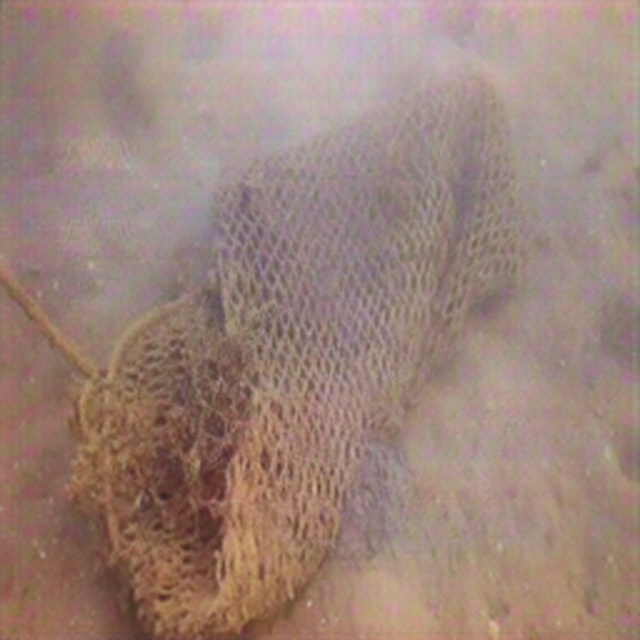mine: (107, 71, 528, 635)
